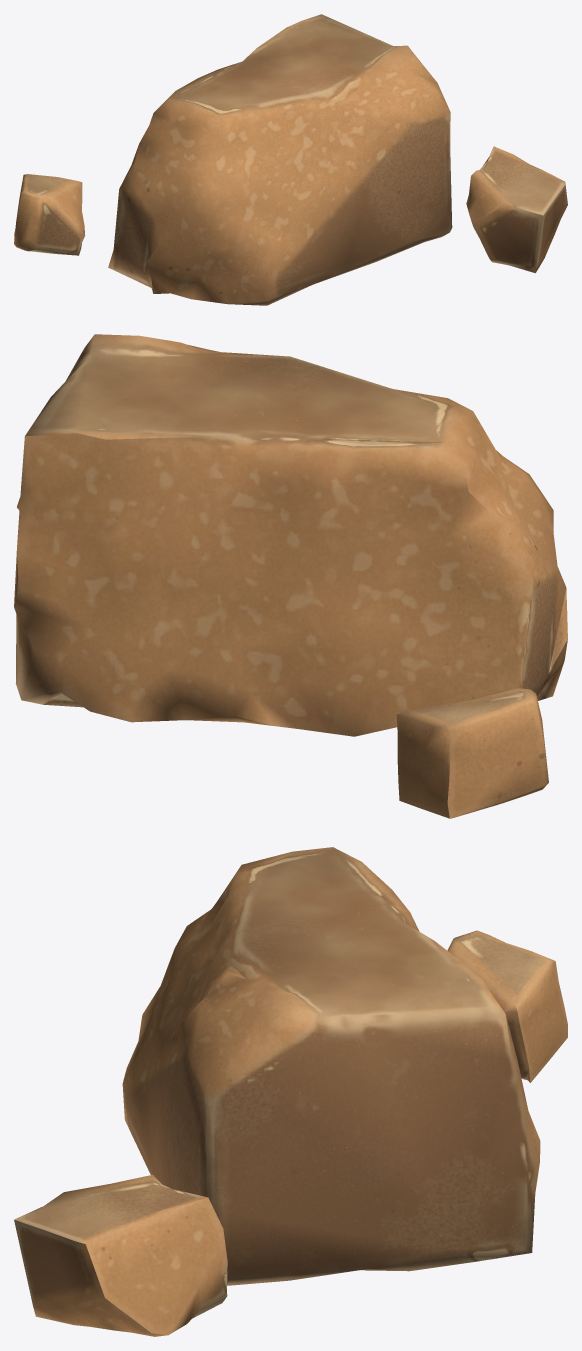
Rendered from rubble_a.glb.
The picture shows the model from 3 angles, top to bottom: view 1: azimuth 30°, elevation 25°; view 2: azimuth 150°, elevation 25°; view 3: azimuth 270°, elevation 25°; orthographic projection. The views are drawn at different scales.
Parts seen in each view (by area): view 1: rubble_a; view 2: rubble_a; view 3: rubble_a.
Boxes of the visible parts, x1,y1,x2,y2 form: rubble_a: (14, 14, 567, 305); rubble_a: (14, 334, 567, 818); rubble_a: (14, 847, 567, 1336).
Bounding box in the file's own units: 1.26 × 0.49 × 0.8992.
1 material, 1 textured.
